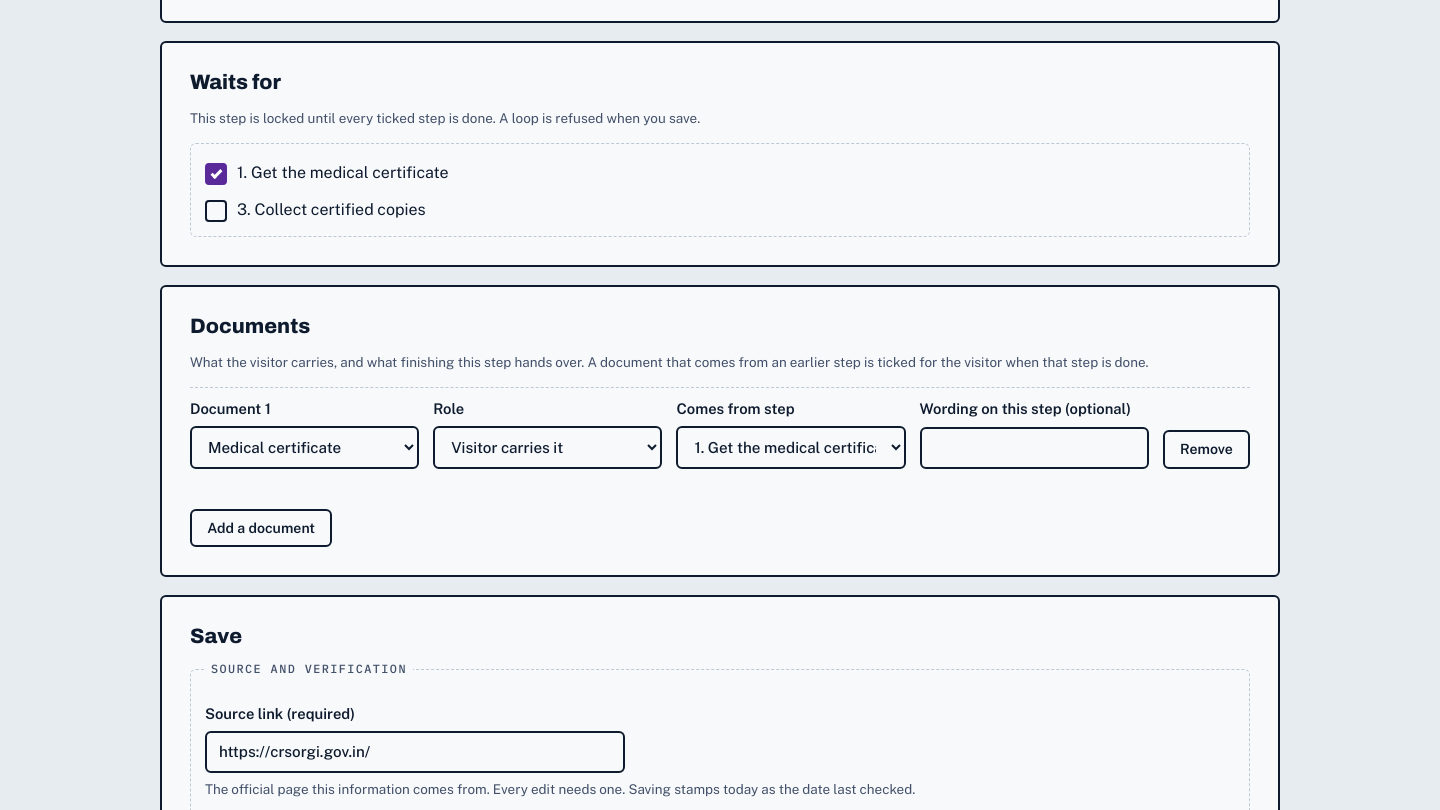
Admin: the step editor › hides "comes from" for a document the step hands over
The image size is (1440, 810).
(page scrolled)
Select "This step hands it over" in the dropdown labelled "Role" at (548, 448), box left=433, top=426, right=662, bottom=469
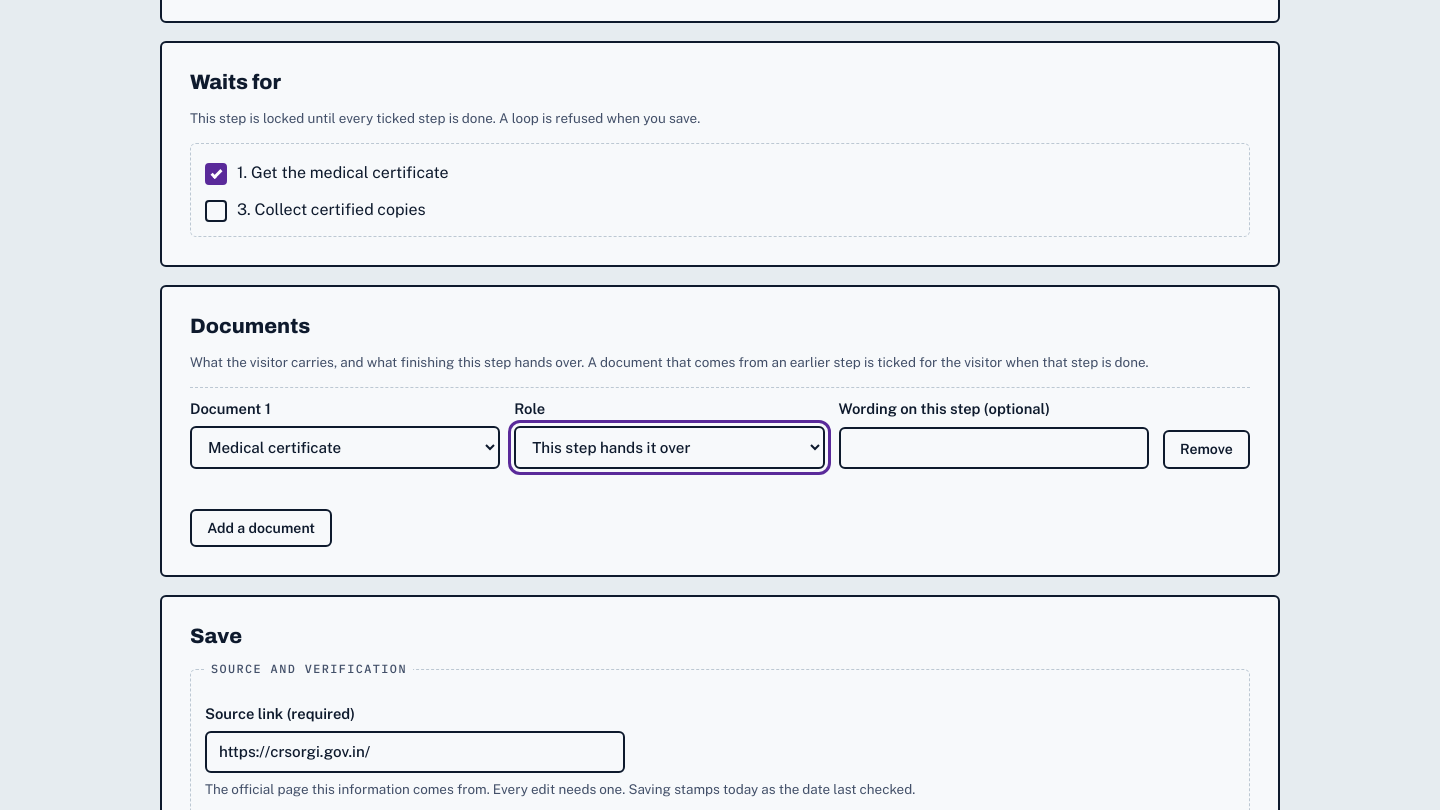
expect the label labelled "Comes from step" is gone: met
